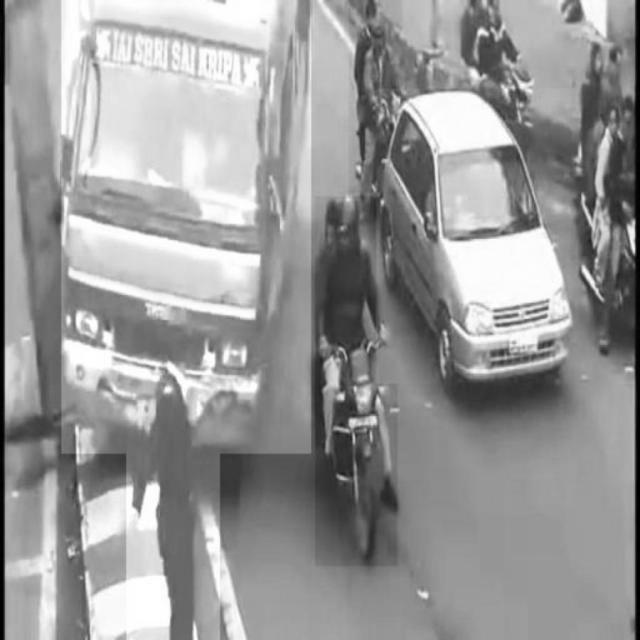person: (127, 326, 220, 640)
vehicle: (62, 0, 312, 454), (376, 90, 570, 384), (315, 196, 398, 566), (349, 0, 403, 192)
